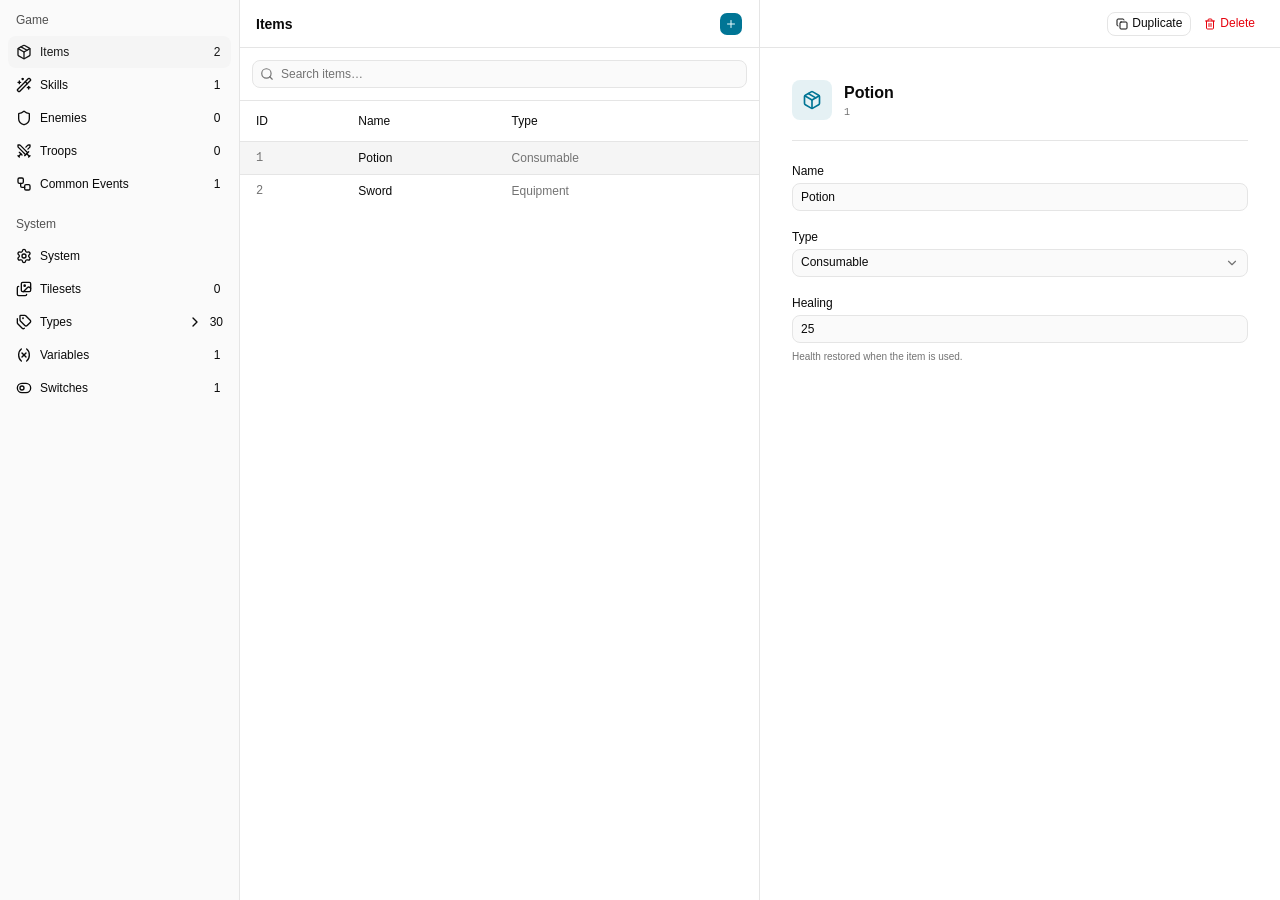
Scenario: DatabaseManager › blocks deletion of a referenced equipment type
Click the button "Types". click: coordinates (120, 322)
box: [8,306,231,338]
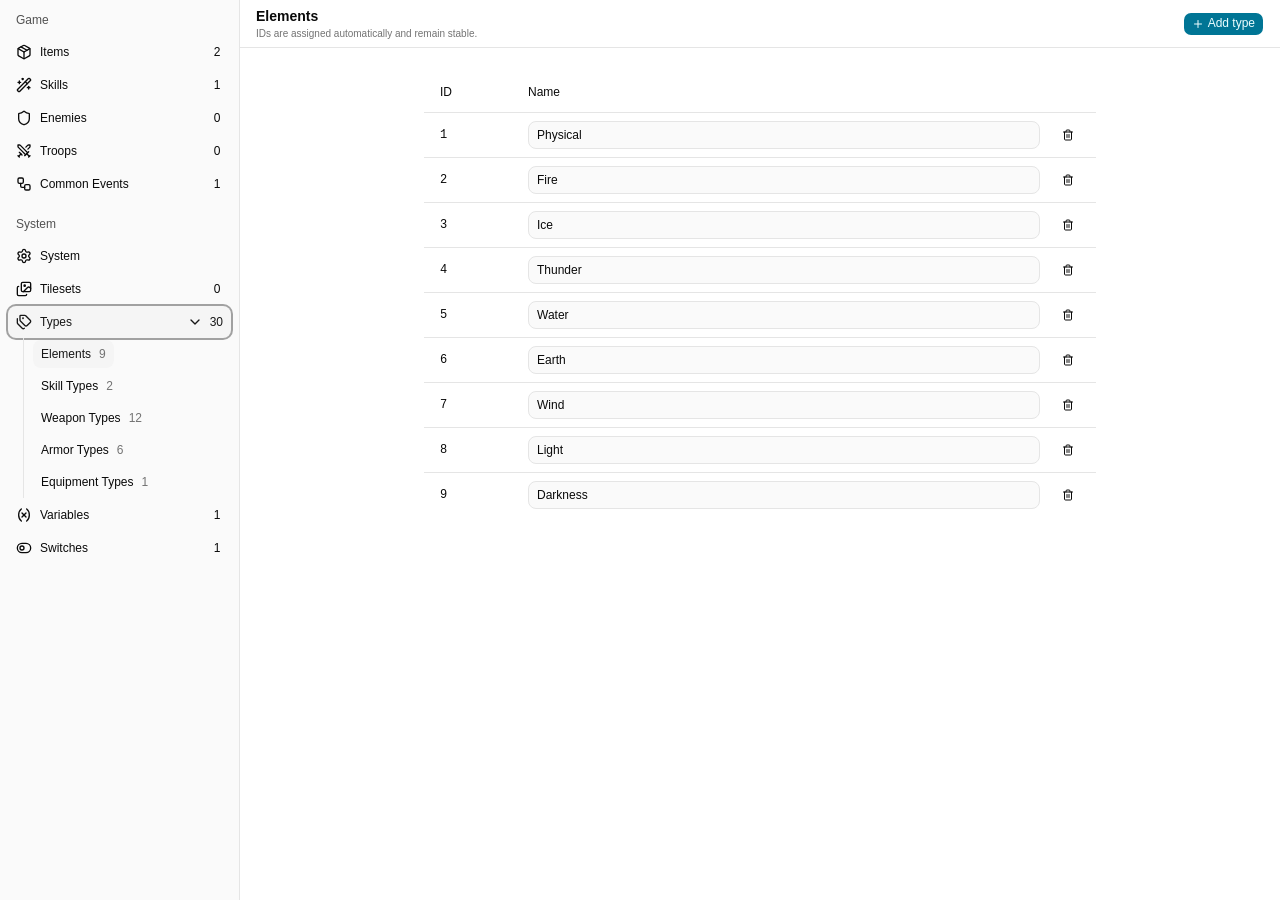
Click the button "Equipment Types 1". click: coordinates (95, 482)
box: [33,468,156,496]
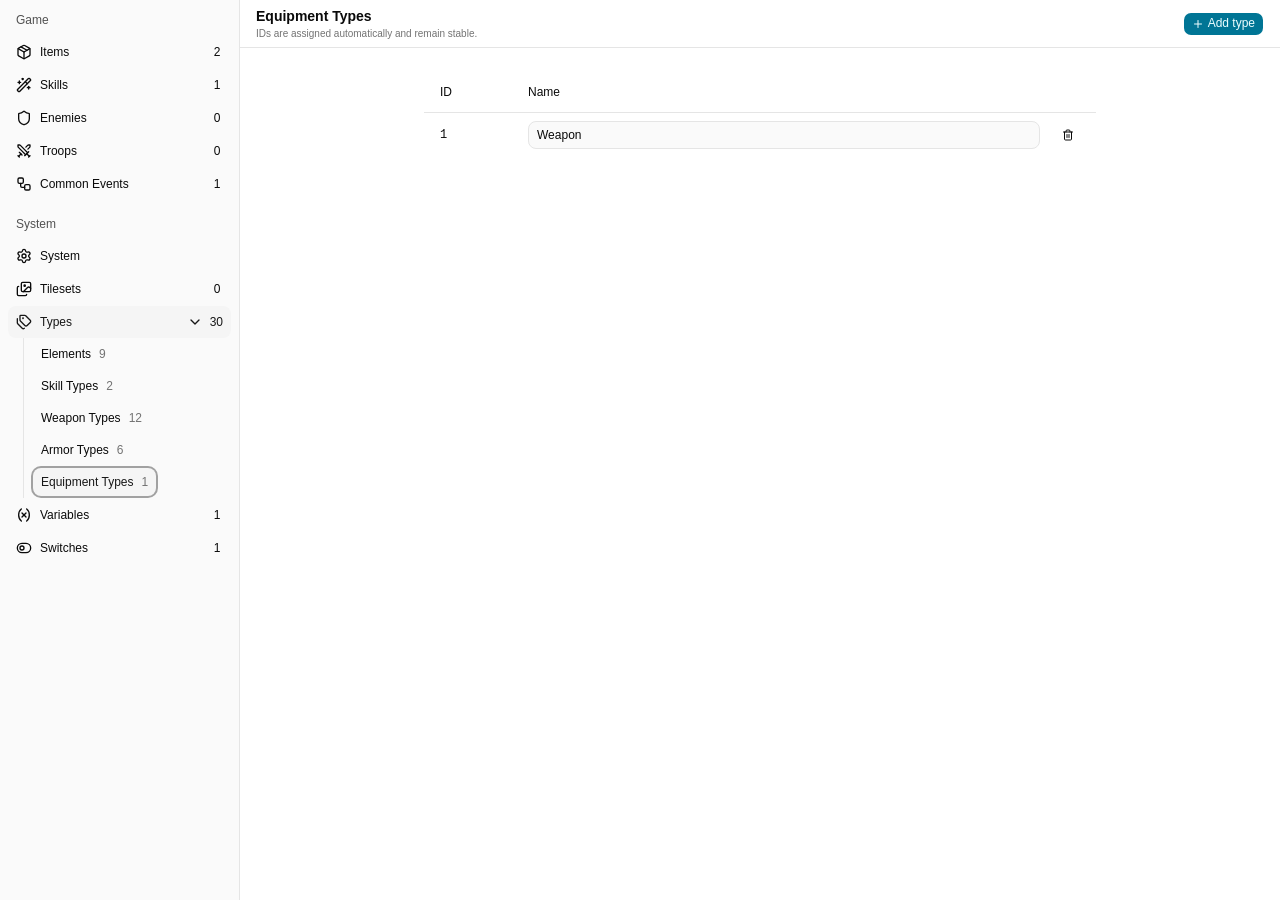
Click the button named "Delete Weapon". click: coordinates (1068, 134)
box: [1056,122,1080,146]
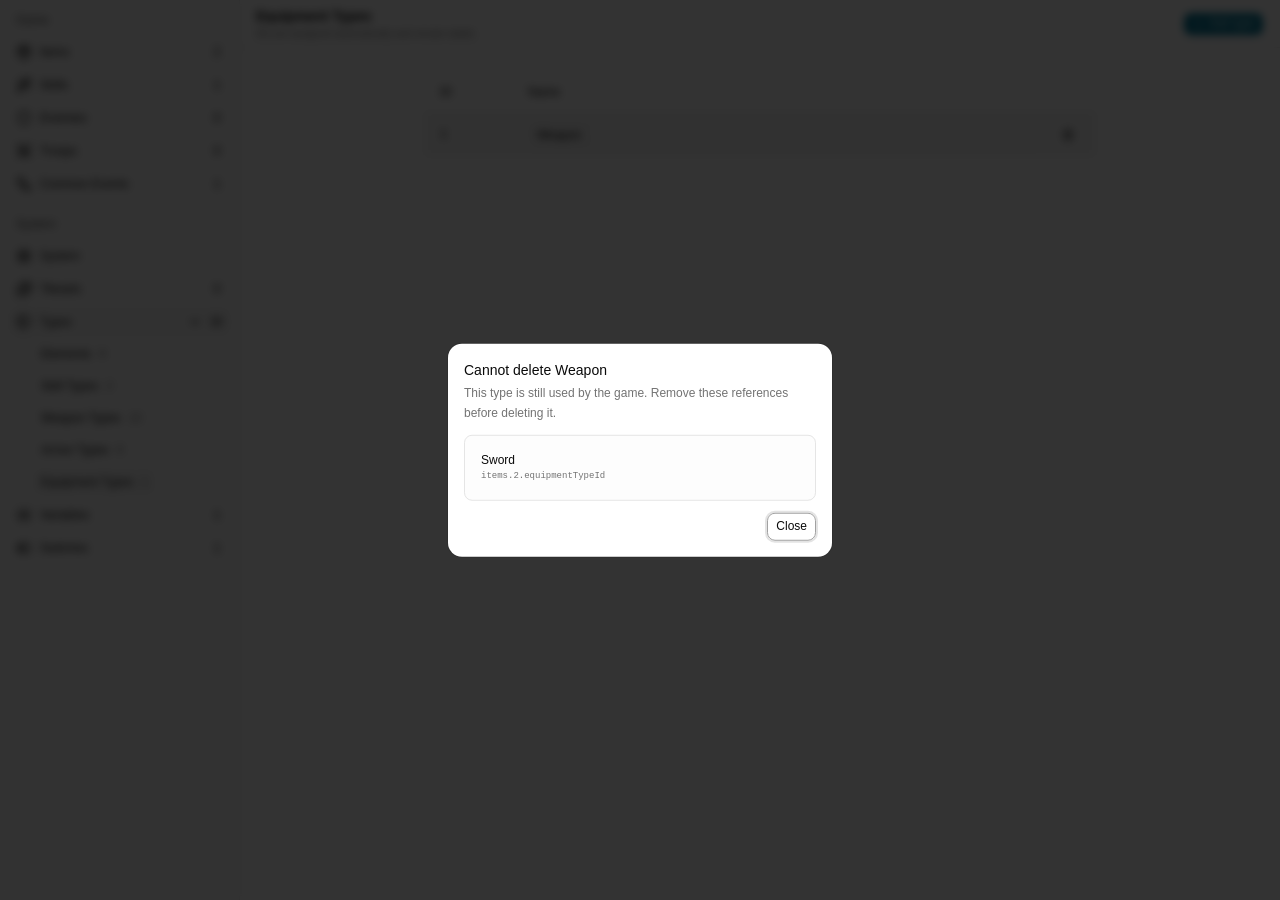
Expected: the dialog shows "Cannot delete Weapon", [464,362,607,378]
Expected: the text "items.2.equipmentTypeId" is shown, [481,471,605,481]
